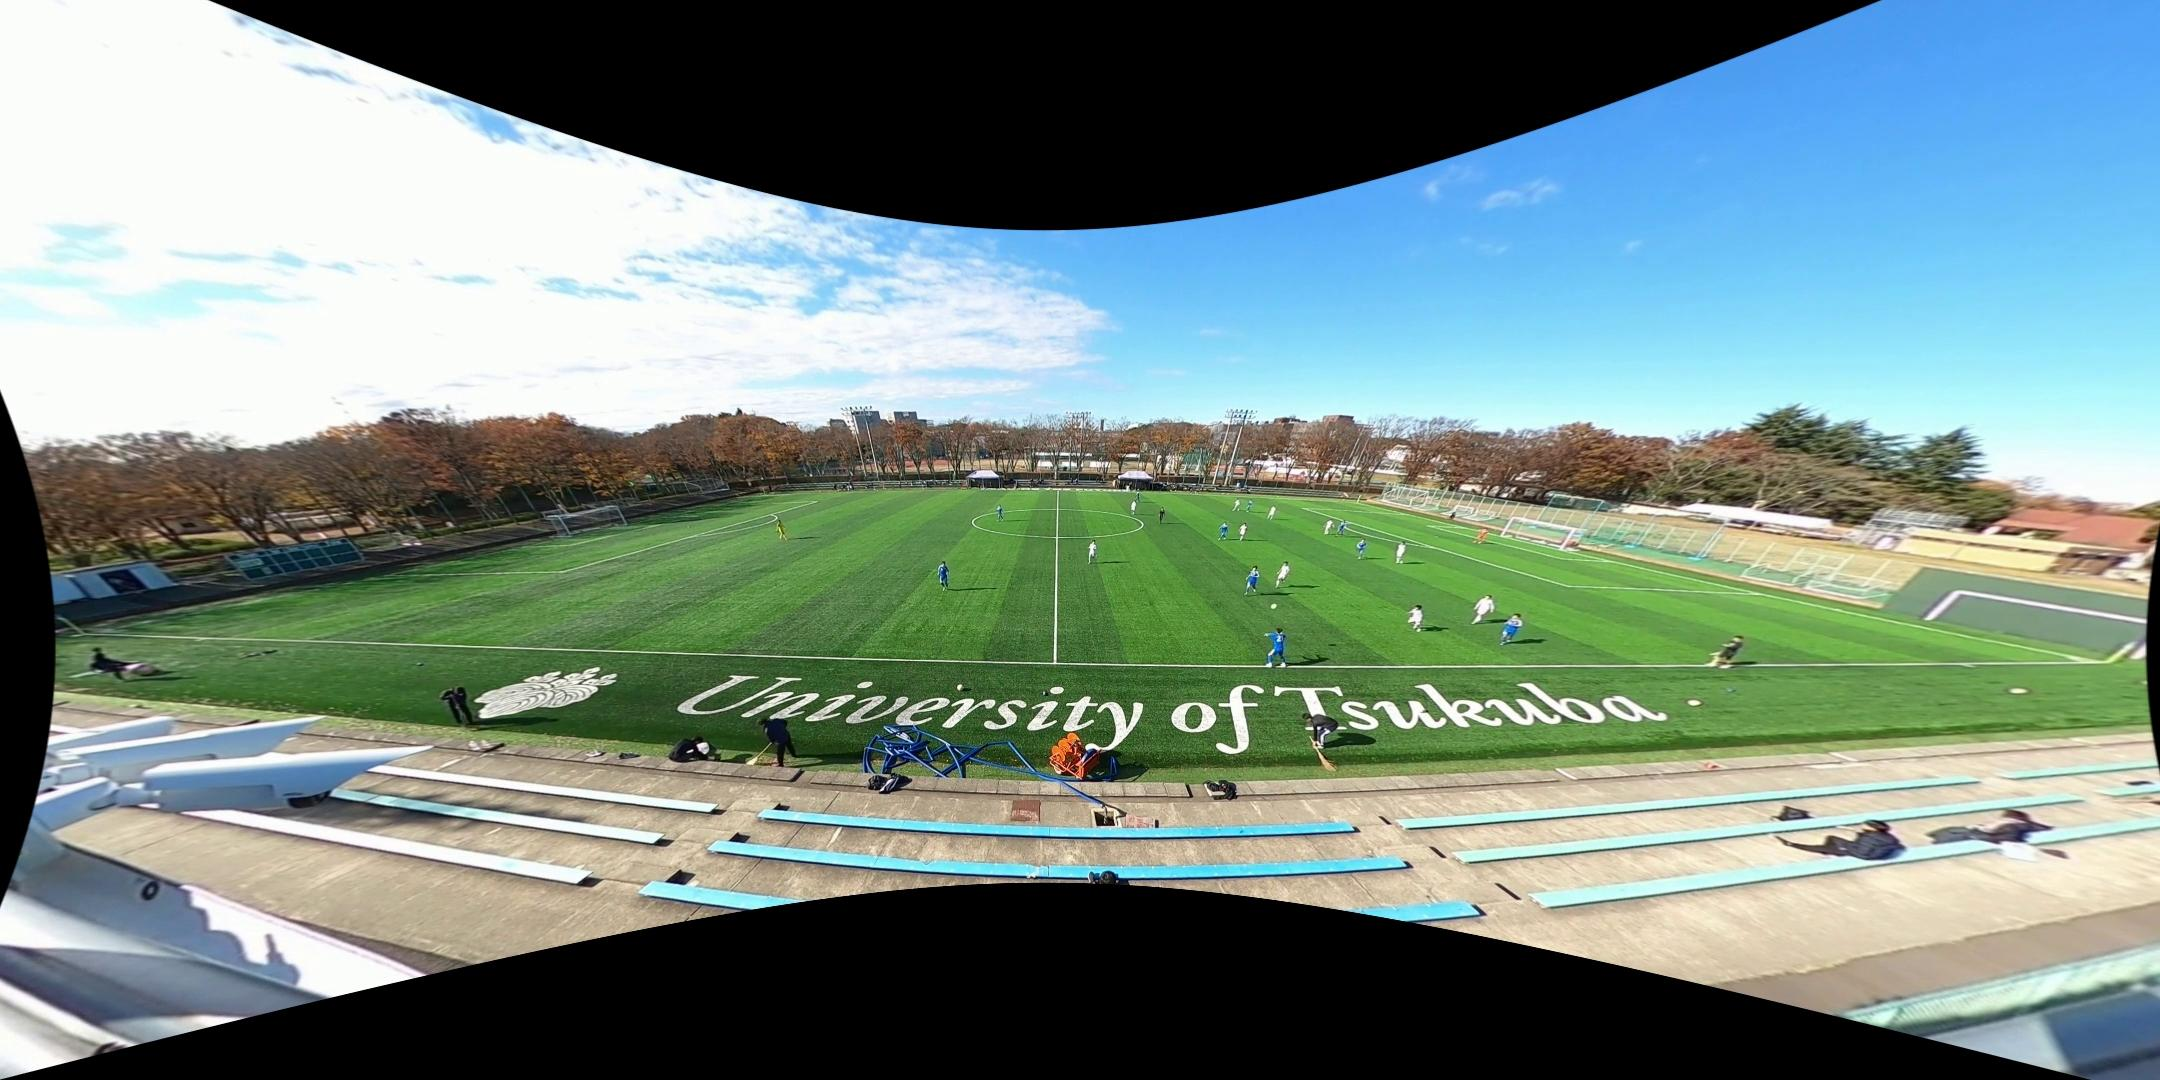person: (1706, 633, 1750, 670), (1262, 628, 1287, 669), (1497, 613, 1522, 645), (1472, 593, 1495, 626), (937, 561, 951, 592), (1410, 604, 1426, 631), (773, 516, 790, 541), (1244, 567, 1259, 595), (1277, 562, 1289, 590), (1088, 540, 1102, 563), (1394, 541, 1405, 566), (1473, 528, 1489, 544), (1356, 538, 1366, 559), (1323, 518, 1335, 535), (994, 504, 1004, 522), (1218, 522, 1228, 540), (1267, 505, 1279, 520), (1336, 519, 1346, 537), (1238, 522, 1247, 541), (1158, 506, 1166, 525), (1244, 498, 1252, 512), (1232, 498, 1240, 511), (1134, 492, 1142, 503), (1131, 500, 1136, 517)
sports ball: (1269, 602, 1278, 611)
